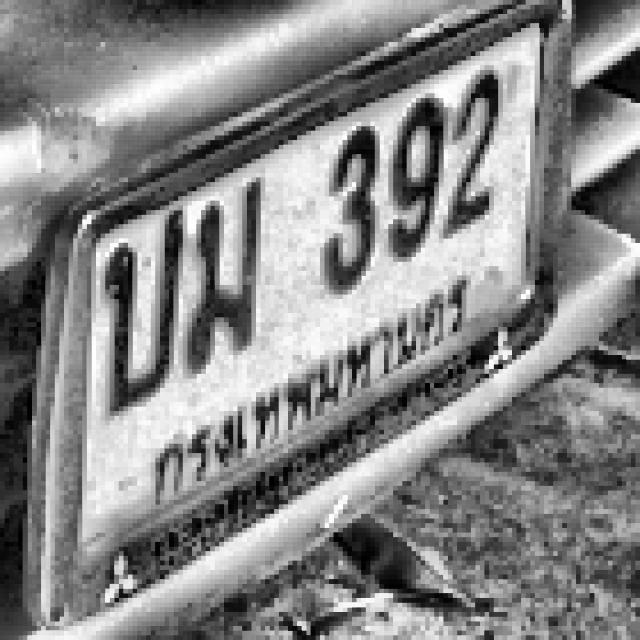license-plate: (32, 0, 568, 640)
